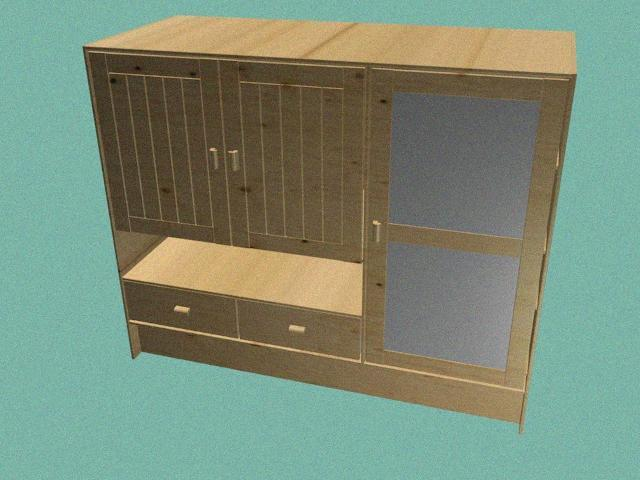cabinet_door: (364, 74, 546, 376), (224, 64, 366, 254), (103, 56, 224, 238), (237, 309, 362, 350), (127, 289, 237, 329)
handle: (226, 144, 244, 179), (284, 321, 314, 342), (368, 216, 385, 249), (206, 141, 221, 178), (170, 301, 197, 321)
